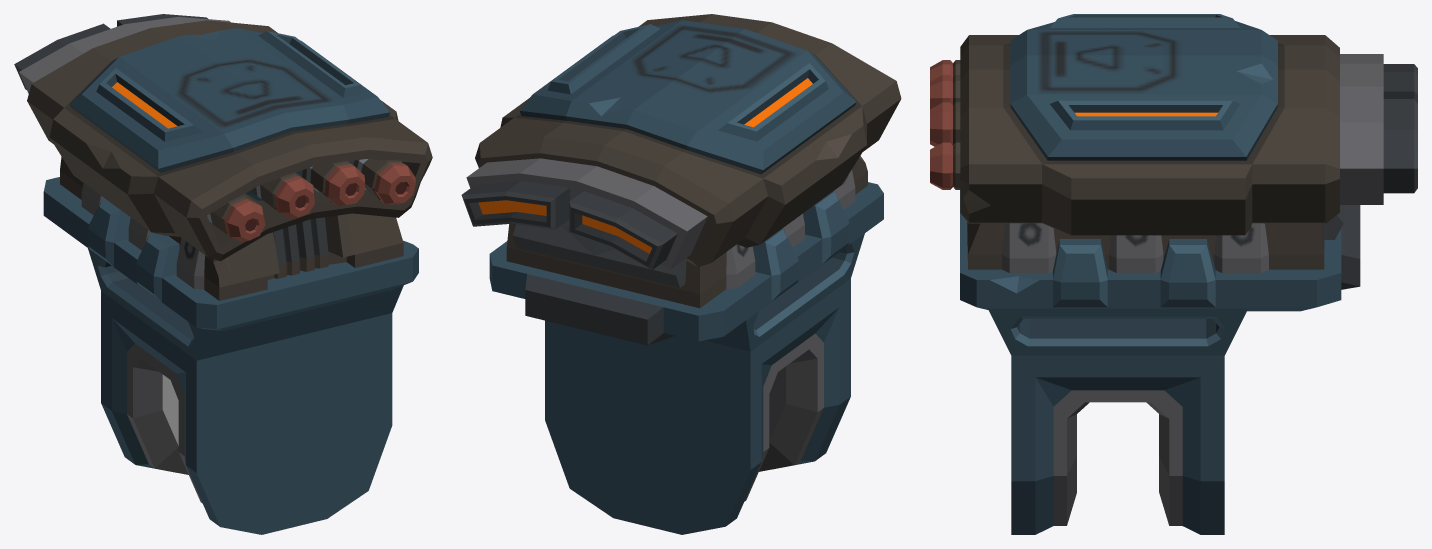
Rendered from SM_Mech_Arm_01_Weapon_Forearm_06.fbx.
3 renders of one model, left to right at view 1: azimuth 30°, elevation 25°; view 2: azimuth 150°, elevation 25°; view 3: azimuth 270°, elevation 25°, orthographic. The views are drawn at different scales.
Parts seen in each view (by area): view 1: SM_Mech_Arm_01_Weapon_Forearm_06; view 2: SM_Mech_Arm_01_Weapon_Forearm_06; view 3: SM_Mech_Arm_01_Weapon_Forearm_06.
Part boxes in pixels (bbox=[...]): SM_Mech_Arm_01_Weapon_Forearm_06: bbox=[14, 14, 432, 534]; SM_Mech_Arm_01_Weapon_Forearm_06: bbox=[461, 14, 901, 534]; SM_Mech_Arm_01_Weapon_Forearm_06: bbox=[930, 14, 1417, 534].
Size of the model in its own units: 55.64 by 79.93 by 77.3.
